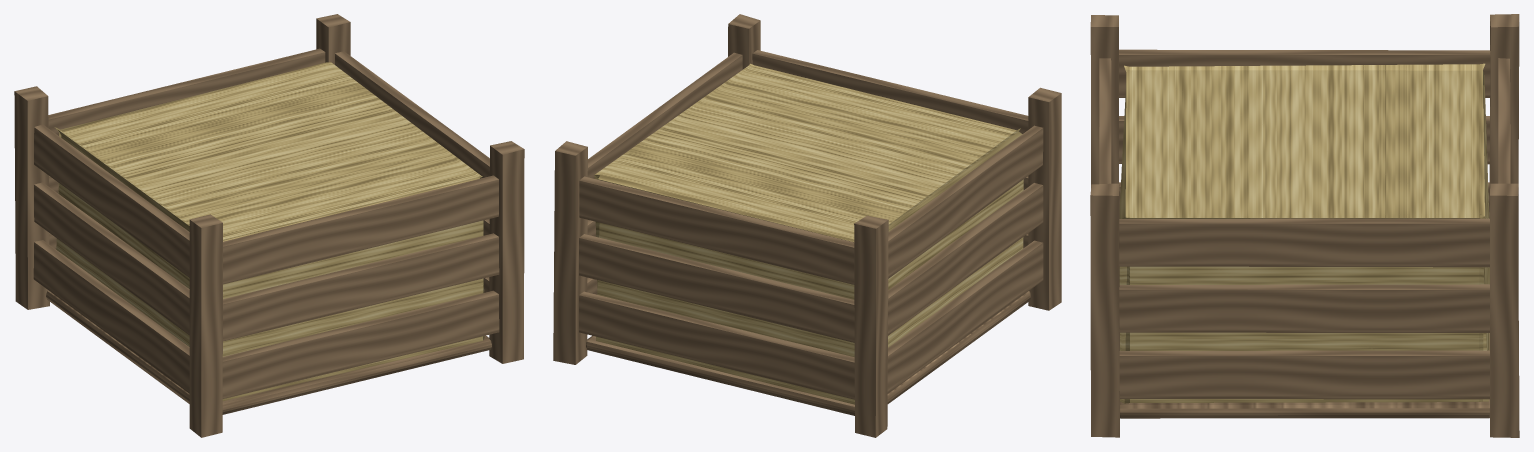
File: hay_crate.glb
3 renders of one model, left to right at view 1: azimuth 30°, elevation 25°; view 2: azimuth 150°, elevation 25°; view 3: azimuth 270°, elevation 25°, orthographic. The views are drawn at different scales.
Parts seen in each view (by area): view 1: HayCrate; view 2: HayCrate; view 3: HayCrate.
Boxes of the visible parts, box(x1,y1,x2,y2) form: HayCrate: box(14, 14, 524, 437); HayCrate: box(553, 14, 1061, 437); HayCrate: box(1090, 14, 1519, 437).
Bounding box in the file's own units: 0.9031 × 0.5631 × 0.9027.
Materials: 2 (2 with a texture image).
